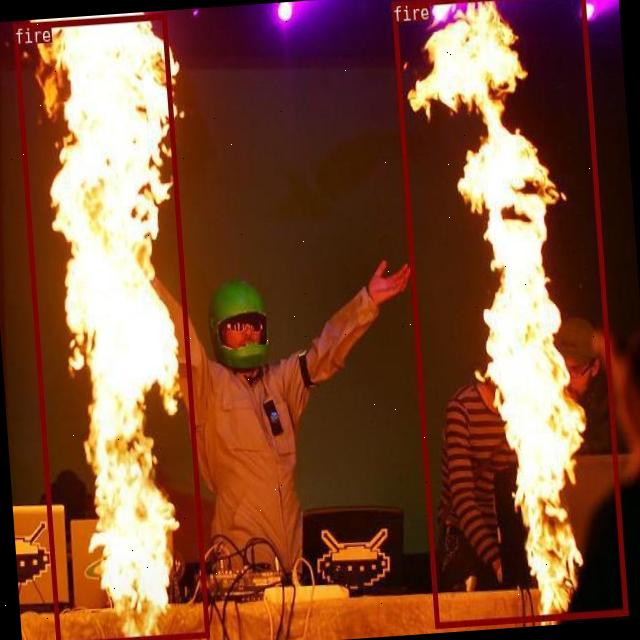fire: (391, 0, 627, 627), (12, 12, 208, 640)
